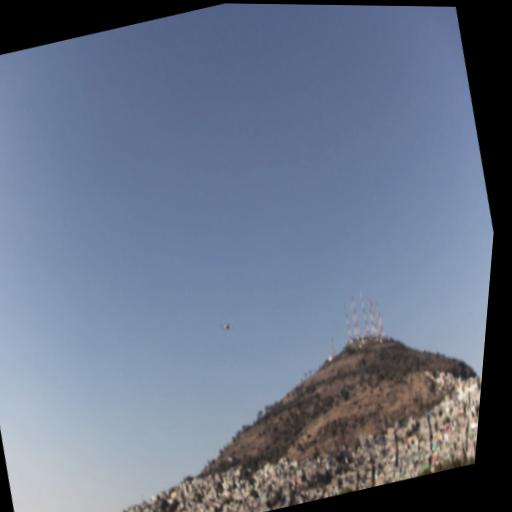drones: (218, 319, 235, 335)
